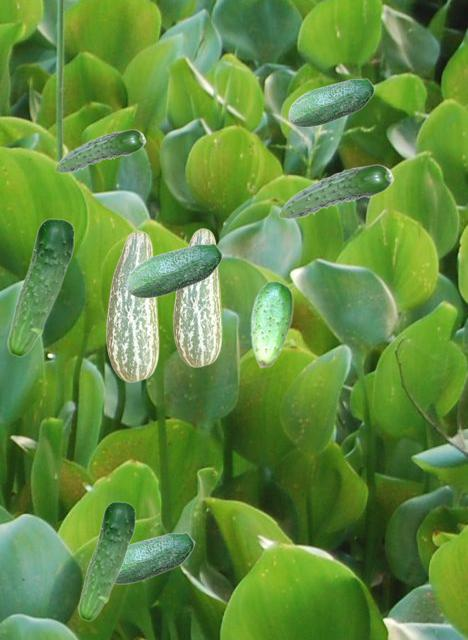cucumber: (6, 218, 74, 356), (106, 230, 158, 381), (77, 501, 135, 620), (173, 228, 221, 366), (278, 164, 393, 218), (126, 243, 222, 297), (288, 78, 374, 126), (115, 532, 194, 583), (54, 129, 145, 172), (250, 280, 292, 367)
